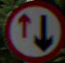Two way: (5, 3, 58, 55)
